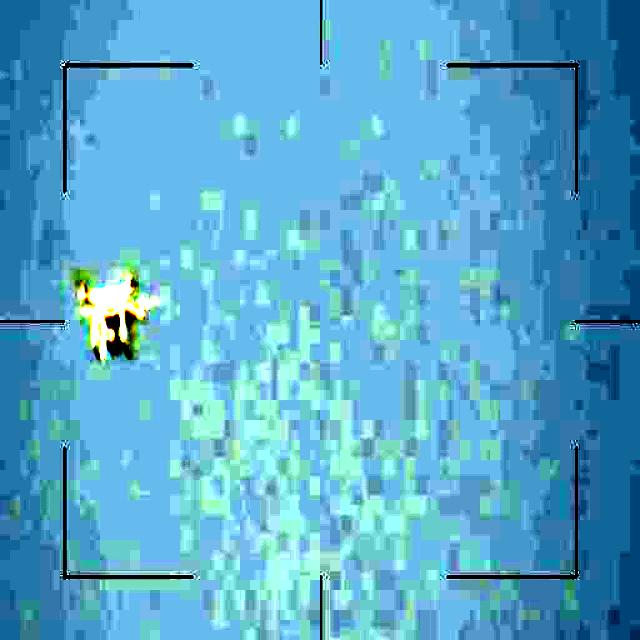bird: (72, 270, 154, 362)
